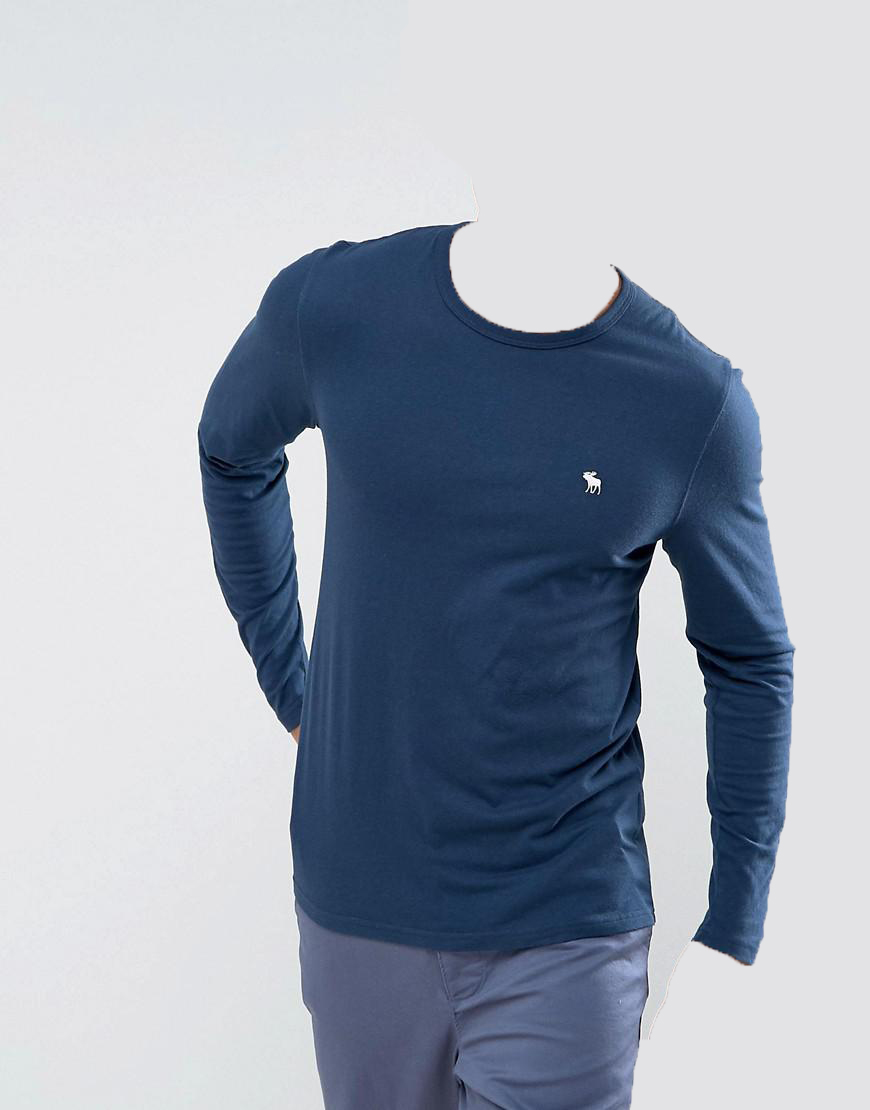teeshirt: (185, 207, 788, 976)
